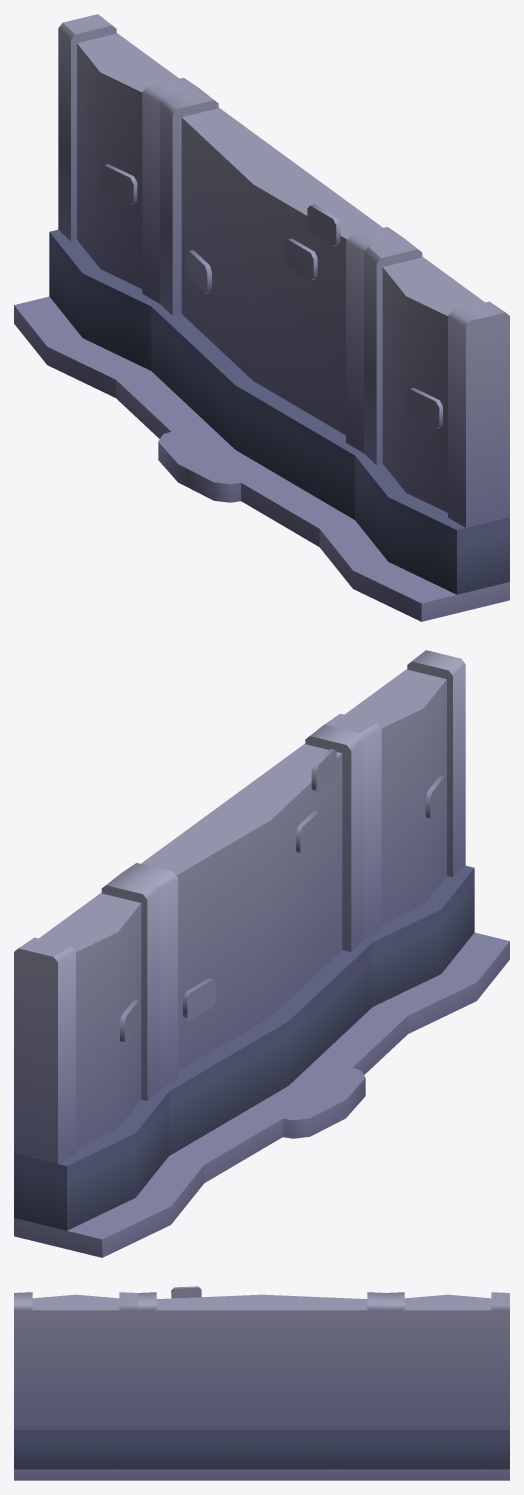
Rendered from Corridor-Wide-Lowered-NoPillar.fbx.
3 views of the same model, one above another, from view 1: azimuth 30°, elevation 25°; view 2: azimuth 150°, elevation 25°; view 3: azimuth 270°, elevation 25° (orthographic). The views are drawn at different scales.
Parts seen in each view (by area): view 1: corridor-wide.024; view 2: corridor-wide.024; view 3: corridor-wide.024.
Part boxes in pixels (x1,y1,x2,y2): corridor-wide.024: [14, 14, 509, 621]; corridor-wide.024: [14, 650, 509, 1257]; corridor-wide.024: [14, 1286, 509, 1480].
Size of the model in its own units: 58.08 by 128 by 320.
